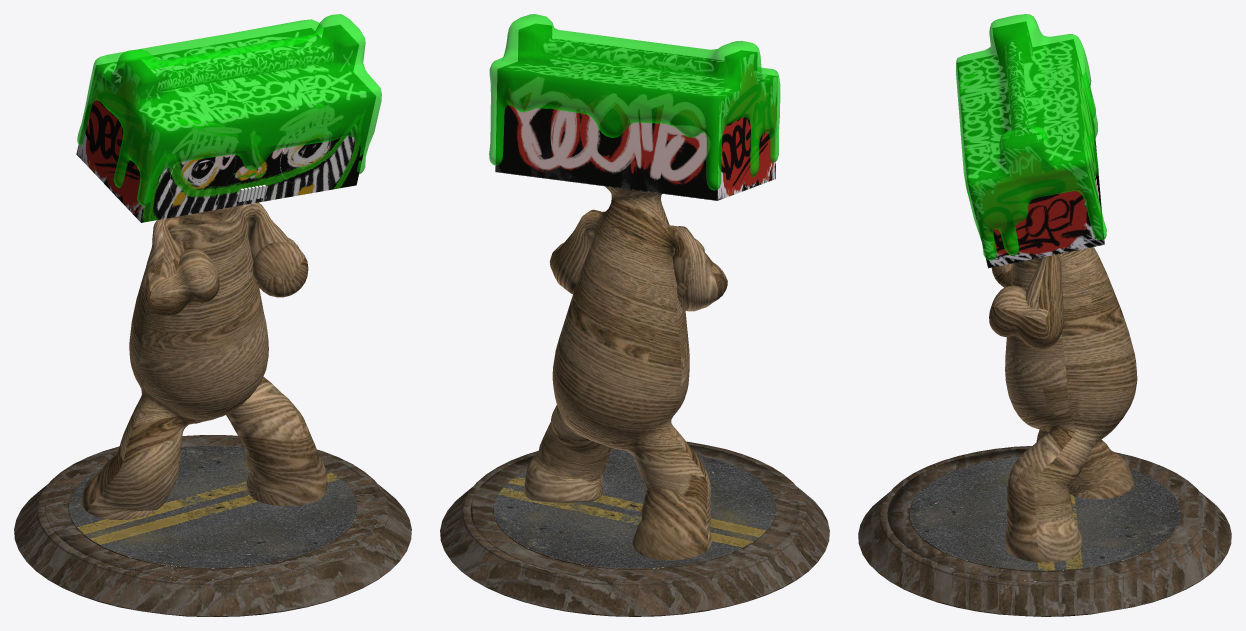
3 renders of one model, left to right at view 1: azimuth 30°, elevation 25°; view 2: azimuth 150°, elevation 25°; view 3: azimuth 270°, elevation 25°, orthographic. The views are drawn at different scales.
Visible parts, largest first — view 1: BBody; view 2: BBody; view 3: BBody.
Part boxes in pixels (x1,y1,x2,y2): BBody: (14, 14, 411, 616); BBody: (440, 14, 829, 616); BBody: (858, 14, 1231, 616).
Size of the model in its own units: 1.45 by 2.05 by 1.45.
6 materials, 4 textured.
